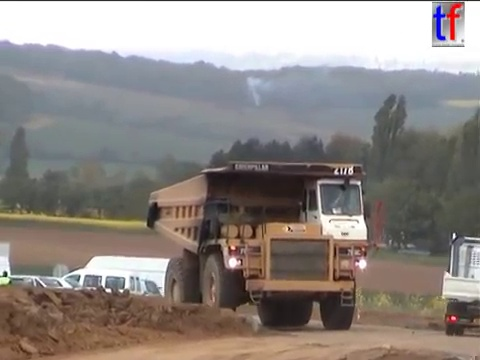truck: (144, 158, 387, 332), (438, 230, 479, 338)
worker: (1, 269, 14, 307)
